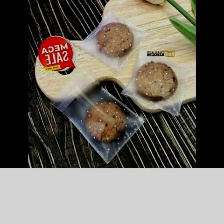snack: (45, 63, 150, 168), (117, 40, 196, 118), (71, 6, 153, 77)
